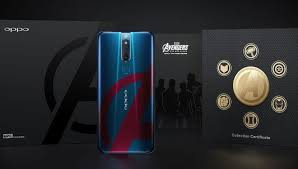oppo: (94, 27, 160, 155)
